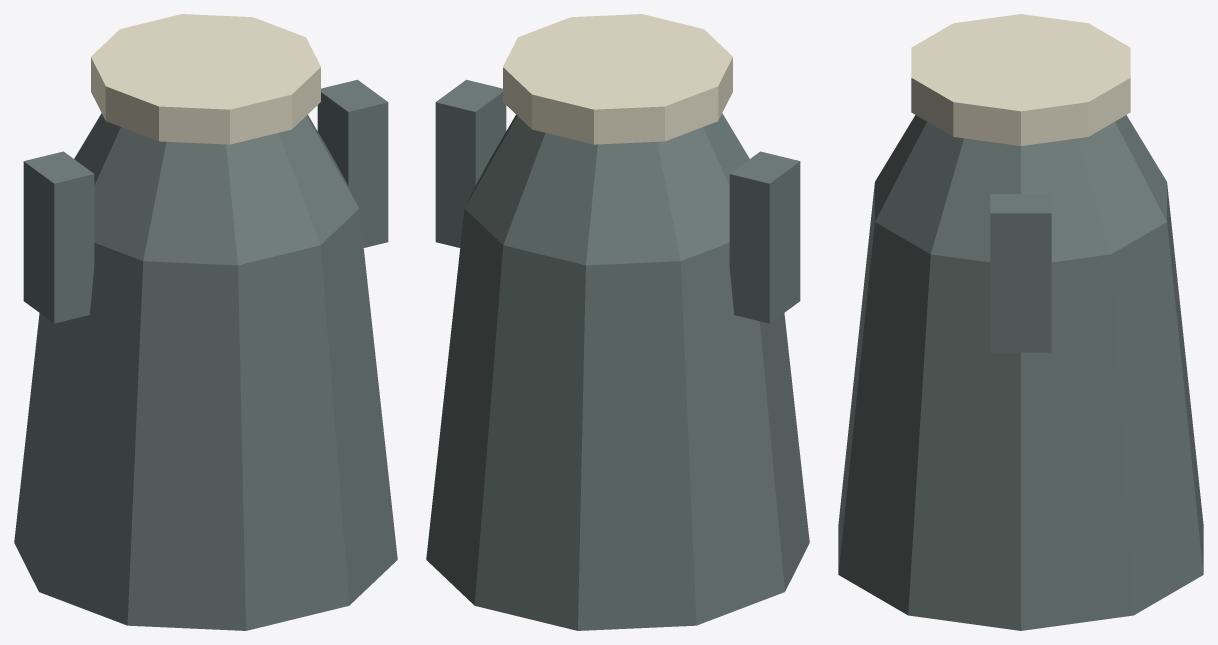
The model's file is cozy-farm-and-homestead-milk-churn-119373cf__19411.glb.
3 renders of one model, left to right at view 1: azimuth 30°, elevation 25°; view 2: azimuth 150°, elevation 25°; view 3: azimuth 270°, elevation 25°, orthographic.
Parts seen in each view (by area): view 1: milk-churn; view 2: milk-churn; view 3: milk-churn.
Boxes of the visible parts, left/top/right/bottom form: milk-churn: left=14, top=14, right=397, bottom=630; milk-churn: left=426, top=14, right=809, bottom=630; milk-churn: left=838, top=14, right=1203, bottom=630.
Bounding box in the file's own units: 0.5 × 0.7 × 0.4755.
